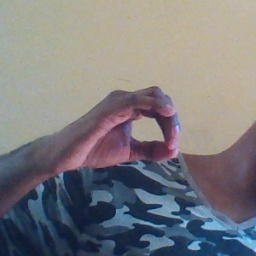O: (74, 79, 184, 173)
